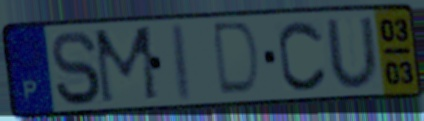C: (276, 18, 330, 94)
D: (212, 19, 263, 99)
I: (171, 20, 195, 105)
M: (91, 23, 163, 108)
S: (49, 28, 104, 108)
U: (323, 14, 383, 91)
